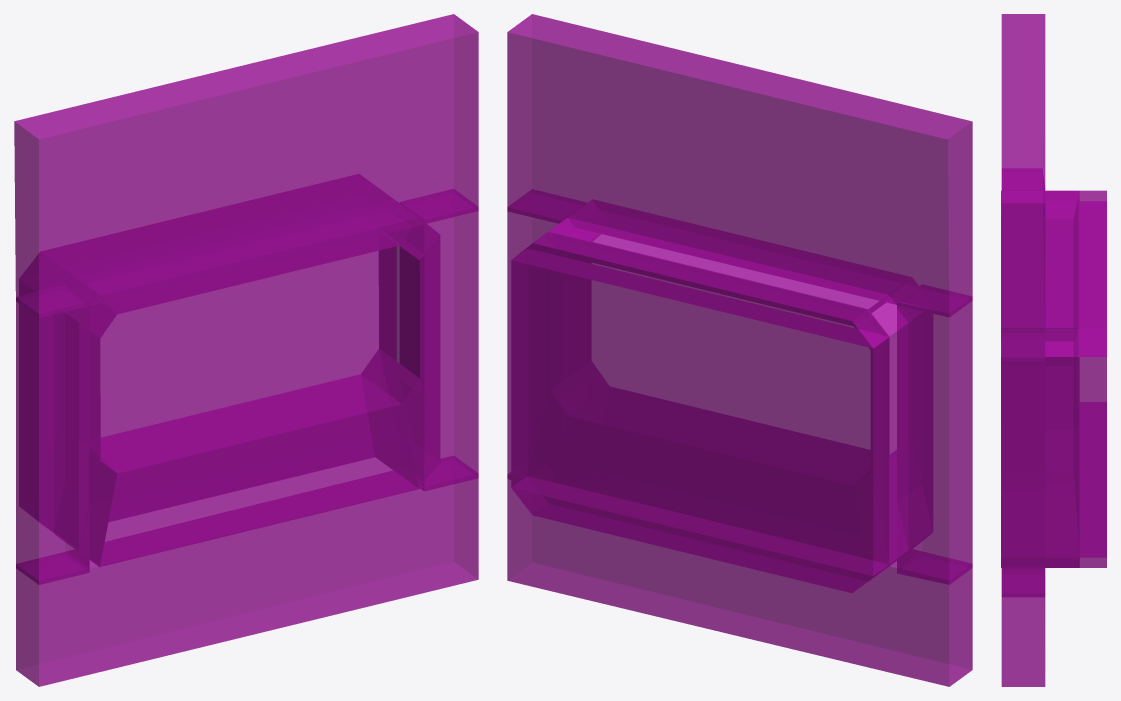
Rendered from SM_Bld_Wall_Alcove_01_Collision.fbx.
The picture shows the model from 3 angles, left to right: view 1: azimuth 30°, elevation 25°; view 2: azimuth 150°, elevation 25°; view 3: azimuth 270°, elevation 25°; orthographic projection. The views are drawn at different scales.
Parts seen in each view (by area): view 1: SM_Bld_Wall_Alcove_01_Collision; view 2: SM_Bld_Wall_Alcove_01_Collision; view 3: SM_Bld_Wall_Alcove_01_Collision.
Part boxes in pixels (box(x1,y1,x2,y2)): SM_Bld_Wall_Alcove_01_Collision: box(14, 14, 478, 686); SM_Bld_Wall_Alcove_01_Collision: box(507, 14, 972, 686); SM_Bld_Wall_Alcove_01_Collision: box(1001, 14, 1106, 686).
Size of the model in its own units: 253 by 302 by 59.78.
